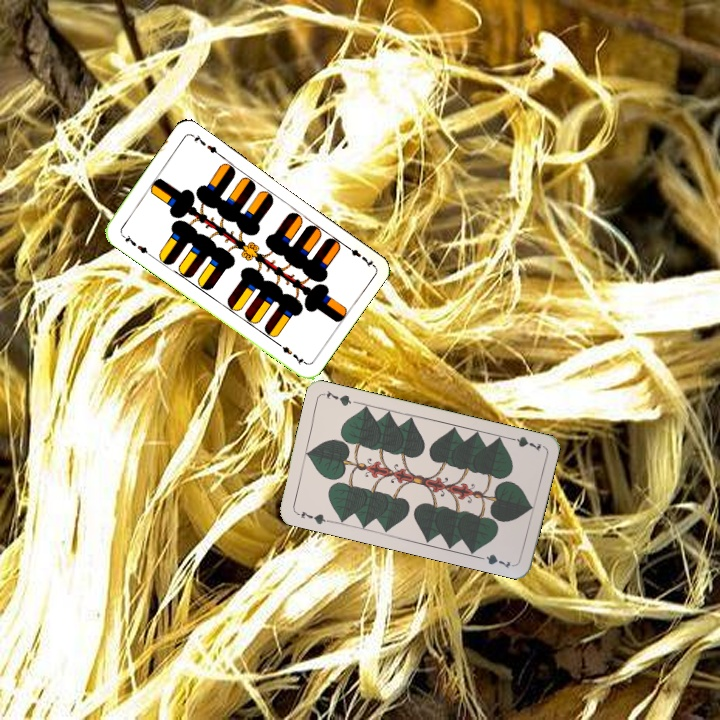E7: (340, 241, 376, 270), (117, 230, 153, 258)
G7: (504, 432, 544, 454), (292, 506, 332, 527)
